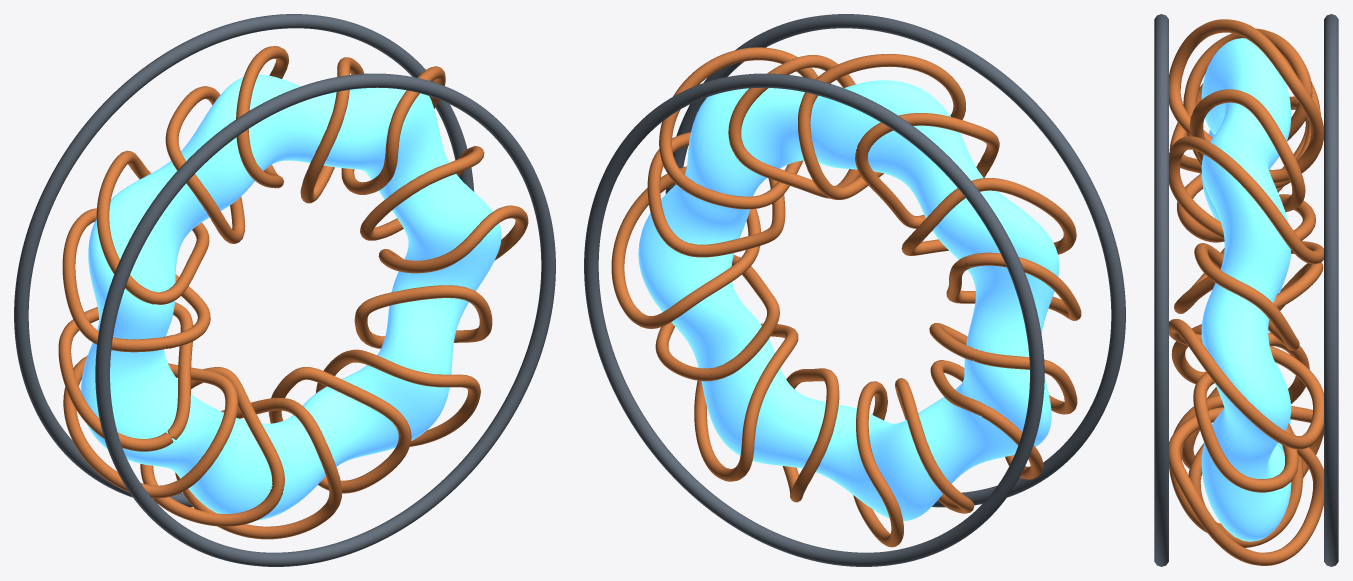
File: stellarator.glb
3 views of the same model, side by side, from view 1: azimuth 30°, elevation 25°; view 2: azimuth 150°, elevation 25°; view 3: azimuth 270°, elevation 25° (orthographic). The views are drawn at different scales.
Parts seen in each view (by area): view 1: Twisted Plasma Surface, Support Ring 2, Support Ring 1, Modular Coil 10, Modular Coil 09, Modular Coil 12, Modular Coil 11, Modular Coil 08, Modular Coil 07, Modular Coil 13, Modular Coil 14, Modular Coil 15 (+6 smaller); view 2: Twisted Plasma Surface, Support Ring 1, Support Ring 2, Modular Coil 03, Modular Coil 05, Modular Coil 01, Modular Coil 14, Modular Coil 06, Modular Coil 02, Modular Coil 12, Modular Coil 04, Modular Coil 07 (+6 smaller); view 3: Twisted Plasma Surface, Support Ring 1, Support Ring 2, Modular Coil 05, Modular Coil 14, Modular Coil 01, Modular Coil 03, Modular Coil 04, Modular Coil 15, Modular Coil 06, Modular Coil 02, Modular Coil 10 (+6 smaller).
Part boxes in pixels (bbox=[...]): Twisted Plasma Surface: bbox=[80, 74, 501, 520]; Support Ring 2: bbox=[95, 73, 555, 566]; Support Ring 1: bbox=[14, 14, 474, 507]; Modular Coil 10: bbox=[63, 355, 238, 498]; Modular Coil 09: bbox=[58, 302, 193, 451]; Modular Coil 12: bbox=[175, 398, 341, 539]; Modular Coil 11: bbox=[140, 367, 284, 526]; Modular Coil 08: bbox=[62, 208, 210, 352]; Modular Coil 07: bbox=[96, 150, 209, 304]; Modular Coil 13: bbox=[268, 367, 411, 493]; Modular Coil 14: bbox=[315, 349, 480, 446]; Modular Coil 15: bbox=[354, 285, 492, 348]; Twisted Plasma Surface: bbox=[638, 80, 1059, 520]; Support Ring 1: bbox=[584, 73, 1044, 566]; Support Ring 2: bbox=[665, 14, 1125, 507]; Modular Coil 03: bbox=[659, 47, 818, 209]; Modular Coil 05: bbox=[798, 54, 965, 199]; Modular Coil 01: bbox=[611, 166, 760, 328]; Modular Coil 14: bbox=[694, 323, 798, 481]; Modular Coil 06: bbox=[855, 113, 999, 228]; Modular Coil 02: bbox=[647, 132, 785, 257]; Modular Coil 12: bbox=[853, 381, 903, 547]; Modular Coil 04: bbox=[728, 55, 860, 198]; Modular Coil 07: bbox=[901, 178, 1076, 255]; Twisted Plasma Surface: bbox=[1201, 38, 1291, 541]; Support Ring 1: bbox=[1324, 14, 1338, 566]; Support Ring 2: bbox=[1154, 14, 1168, 566]; Modular Coil 05: bbox=[1169, 19, 1323, 183]; Modular Coil 14: bbox=[1169, 407, 1323, 565]; Modular Coil 01: bbox=[1169, 319, 1323, 449]; Modular Coil 03: bbox=[1169, 136, 1323, 264]; Modular Coil 04: bbox=[1189, 89, 1305, 212]; Modular Coil 15: bbox=[1193, 372, 1298, 492]; Modular Coil 06: bbox=[1183, 28, 1312, 165]; Modular Coil 02: bbox=[1194, 243, 1299, 350]; Modular Coil 10: bbox=[1171, 262, 1323, 384].
Size of the model in its own units: 8.74 by 8.66 by 2.87.
